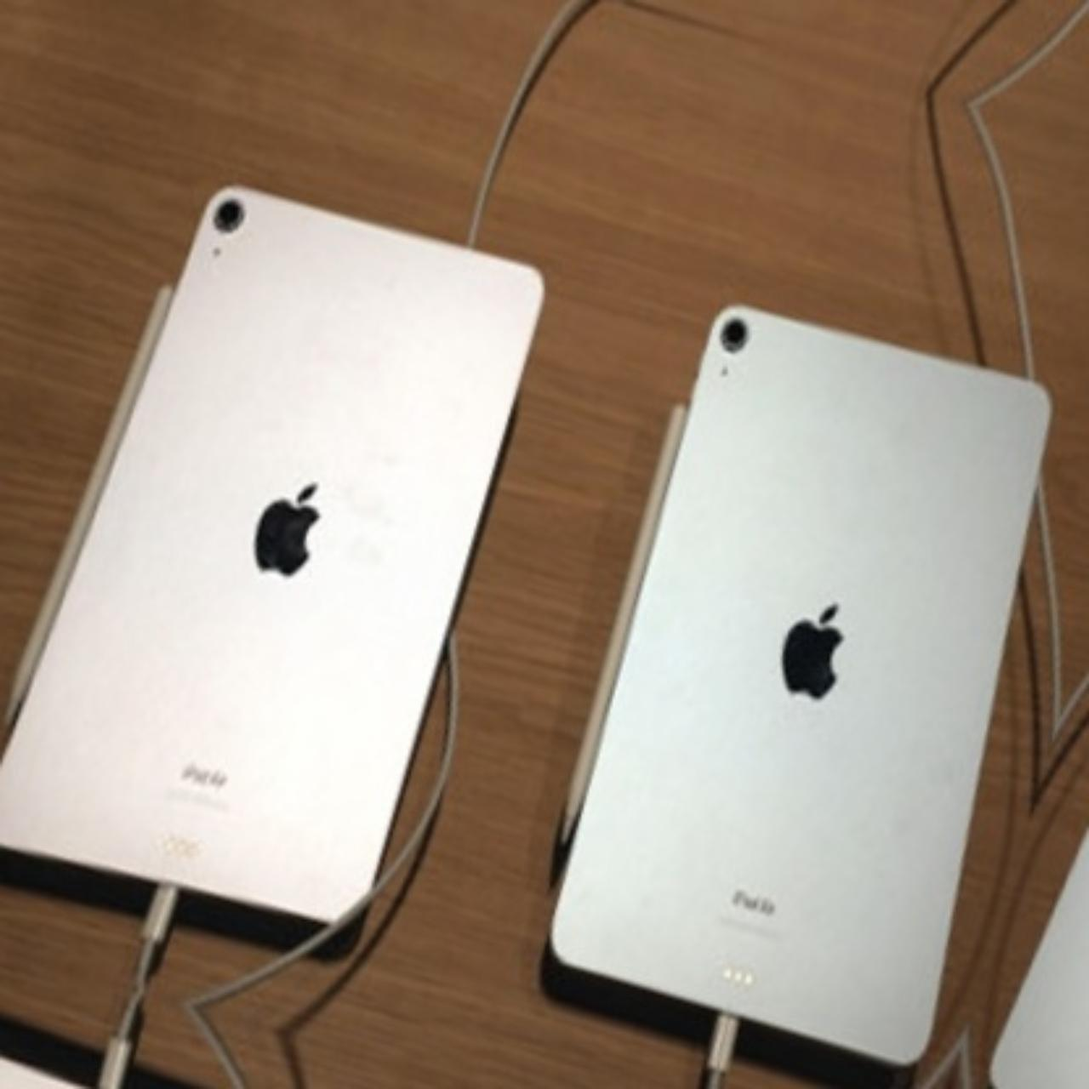Tablet_PC: (487, 264, 1089, 1089), (0, 147, 587, 992)
